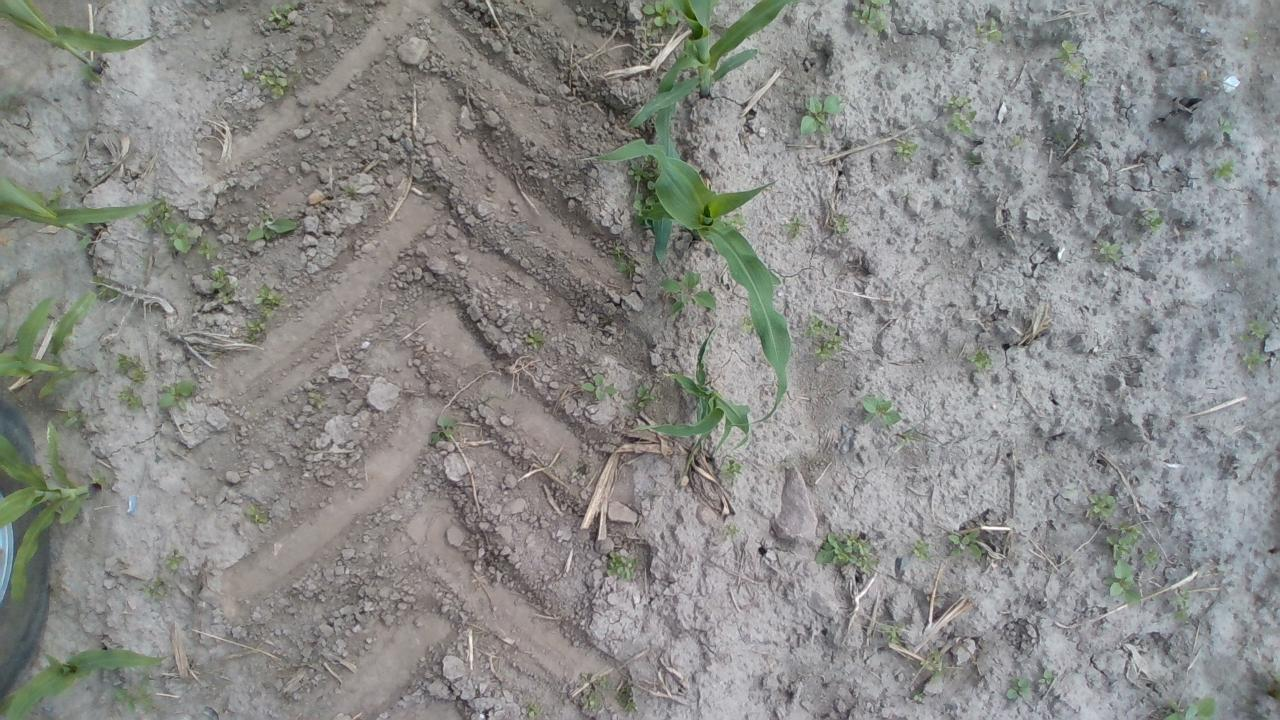Maize: (580, 69, 791, 426), (630, 0, 790, 127), (0, 416, 99, 601), (632, 325, 754, 456), (5, 644, 173, 718), (0, 0, 154, 75), (0, 290, 97, 399), (1, 174, 160, 234)
Weeds: (814, 532, 876, 570), (662, 272, 716, 314), (112, 672, 160, 718), (798, 95, 842, 136), (240, 67, 288, 100), (242, 218, 302, 244), (806, 318, 846, 356), (1109, 560, 1140, 608), (578, 670, 610, 714), (1105, 522, 1143, 558), (849, 0, 889, 34), (1160, 694, 1216, 718), (860, 397, 901, 427), (944, 528, 982, 560), (1056, 37, 1085, 74), (158, 380, 194, 408), (112, 354, 148, 382), (644, 0, 680, 28), (138, 579, 174, 605), (210, 269, 234, 306), (164, 221, 191, 253), (430, 413, 456, 444), (246, 312, 274, 340), (604, 552, 634, 578), (1088, 491, 1116, 518), (584, 376, 619, 397), (953, 110, 980, 136), (1170, 590, 1194, 619), (143, 204, 169, 230), (625, 161, 656, 182), (252, 288, 281, 310), (632, 194, 656, 220), (1242, 350, 1268, 374), (632, 384, 654, 412), (976, 18, 1001, 42), (968, 345, 994, 368), (116, 386, 140, 410), (1097, 239, 1122, 262), (270, 5, 298, 25), (1004, 678, 1028, 700), (879, 624, 903, 646), (922, 654, 948, 673), (616, 686, 638, 708), (1142, 209, 1164, 231), (897, 137, 919, 159), (94, 276, 115, 298), (163, 548, 184, 570), (1144, 548, 1166, 569), (1216, 155, 1236, 178), (910, 540, 934, 557), (524, 328, 544, 348), (616, 256, 638, 274), (64, 410, 84, 429), (836, 214, 854, 234), (726, 461, 744, 480), (249, 504, 267, 522), (730, 214, 747, 232), (1250, 320, 1268, 337), (1054, 123, 1070, 142), (946, 94, 966, 109), (198, 242, 215, 258), (1036, 669, 1054, 684), (1240, 29, 1260, 42), (1009, 134, 1024, 148), (728, 523, 741, 536), (528, 705, 539, 720), (1220, 118, 1230, 133), (912, 693, 926, 702), (1078, 74, 1090, 82)
